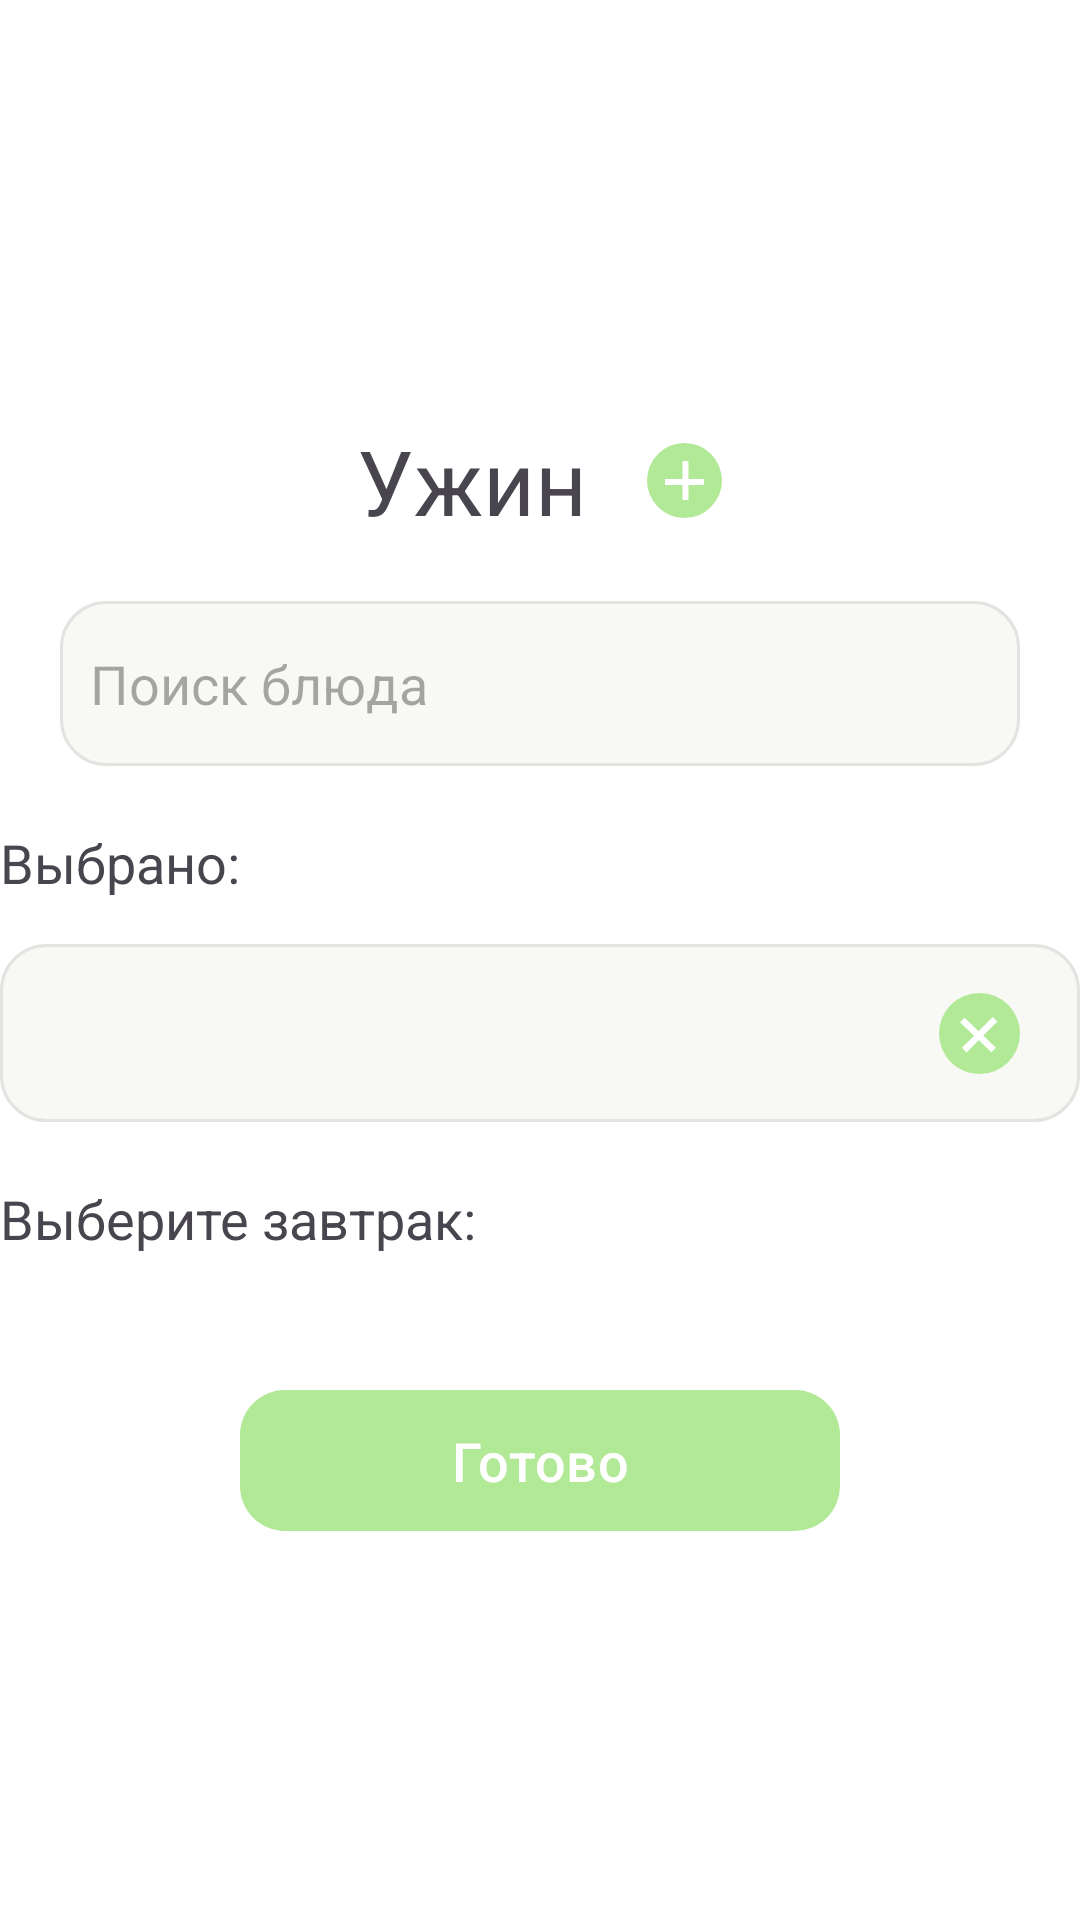

Icon click points for this 1080×1920 phone screenshot, format [x,y]:
breakfast add: [684,480]
delete: [979,1033]
